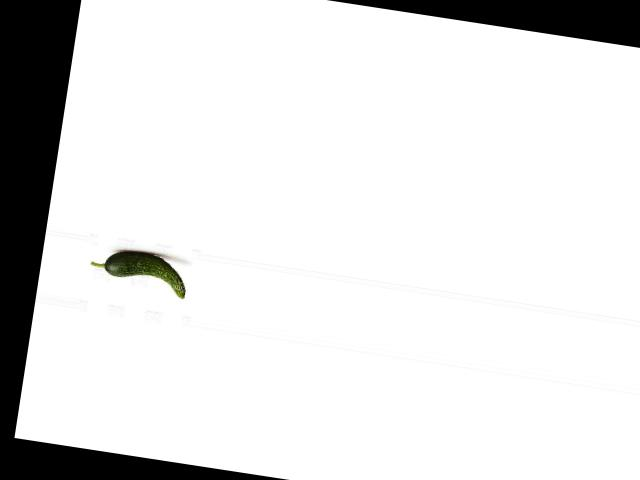cucumber: (87, 245, 189, 298)
